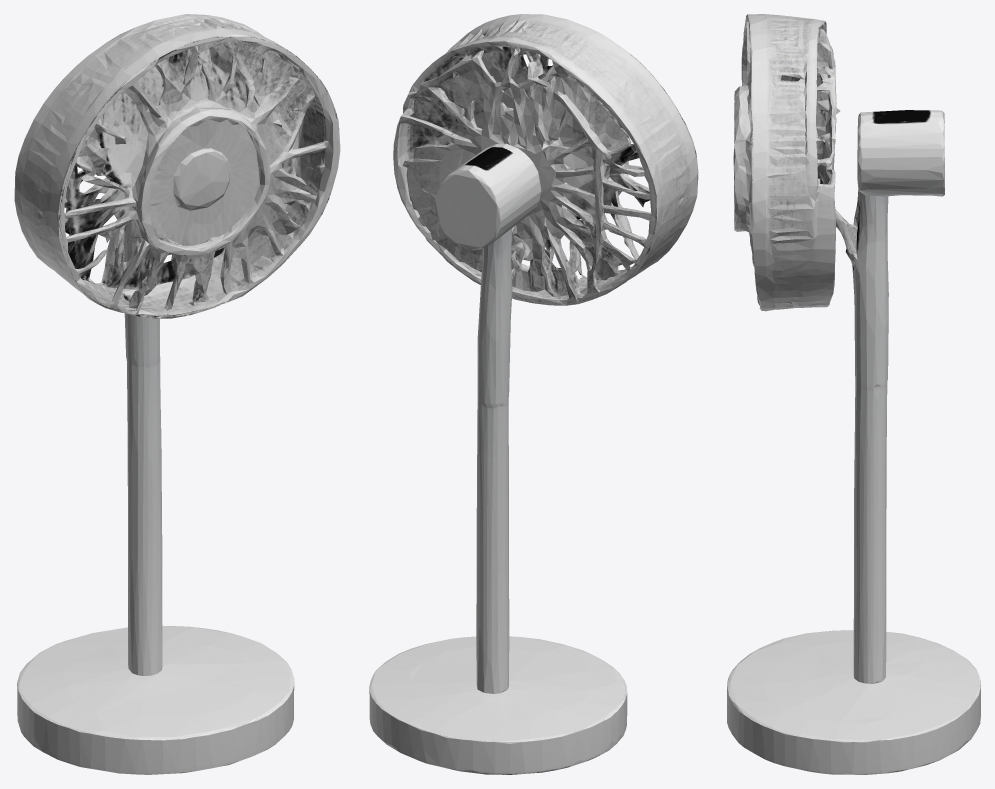
The model's file is room_scan_70630b05-6ef2-4b5a-8741-54d20a5d9365_scene_fan_001_fan_frame_0003_bbox_1440_418_757_1687_textured_yolo_12k_v1.glb.
3 views of the same model, side by side, from view 1: azimuth 30°, elevation 25°; view 2: azimuth 150°, elevation 25°; view 3: azimuth 270°, elevation 25° (orthographic). The views are drawn at different scales.
Parts seen in each view (by area): view 1: world; view 2: world; view 3: world.
Boxes of the visible parts, left/top/right/bottom form: world: left=14, top=14, right=340, bottom=774; world: left=369, top=14, right=698, bottom=774; world: left=727, top=14, right=980, bottom=774.
Bounding box in the file's own units: 0.418 × 0.9999 × 0.3354.
Materials: 1 (1 with a texture image).
